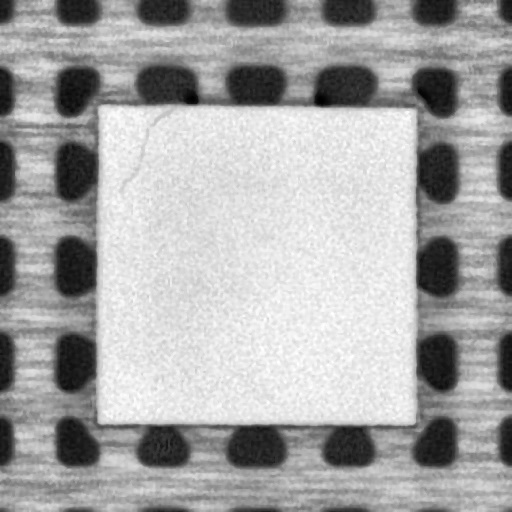DIE_CRACK: (112, 106, 174, 194)
